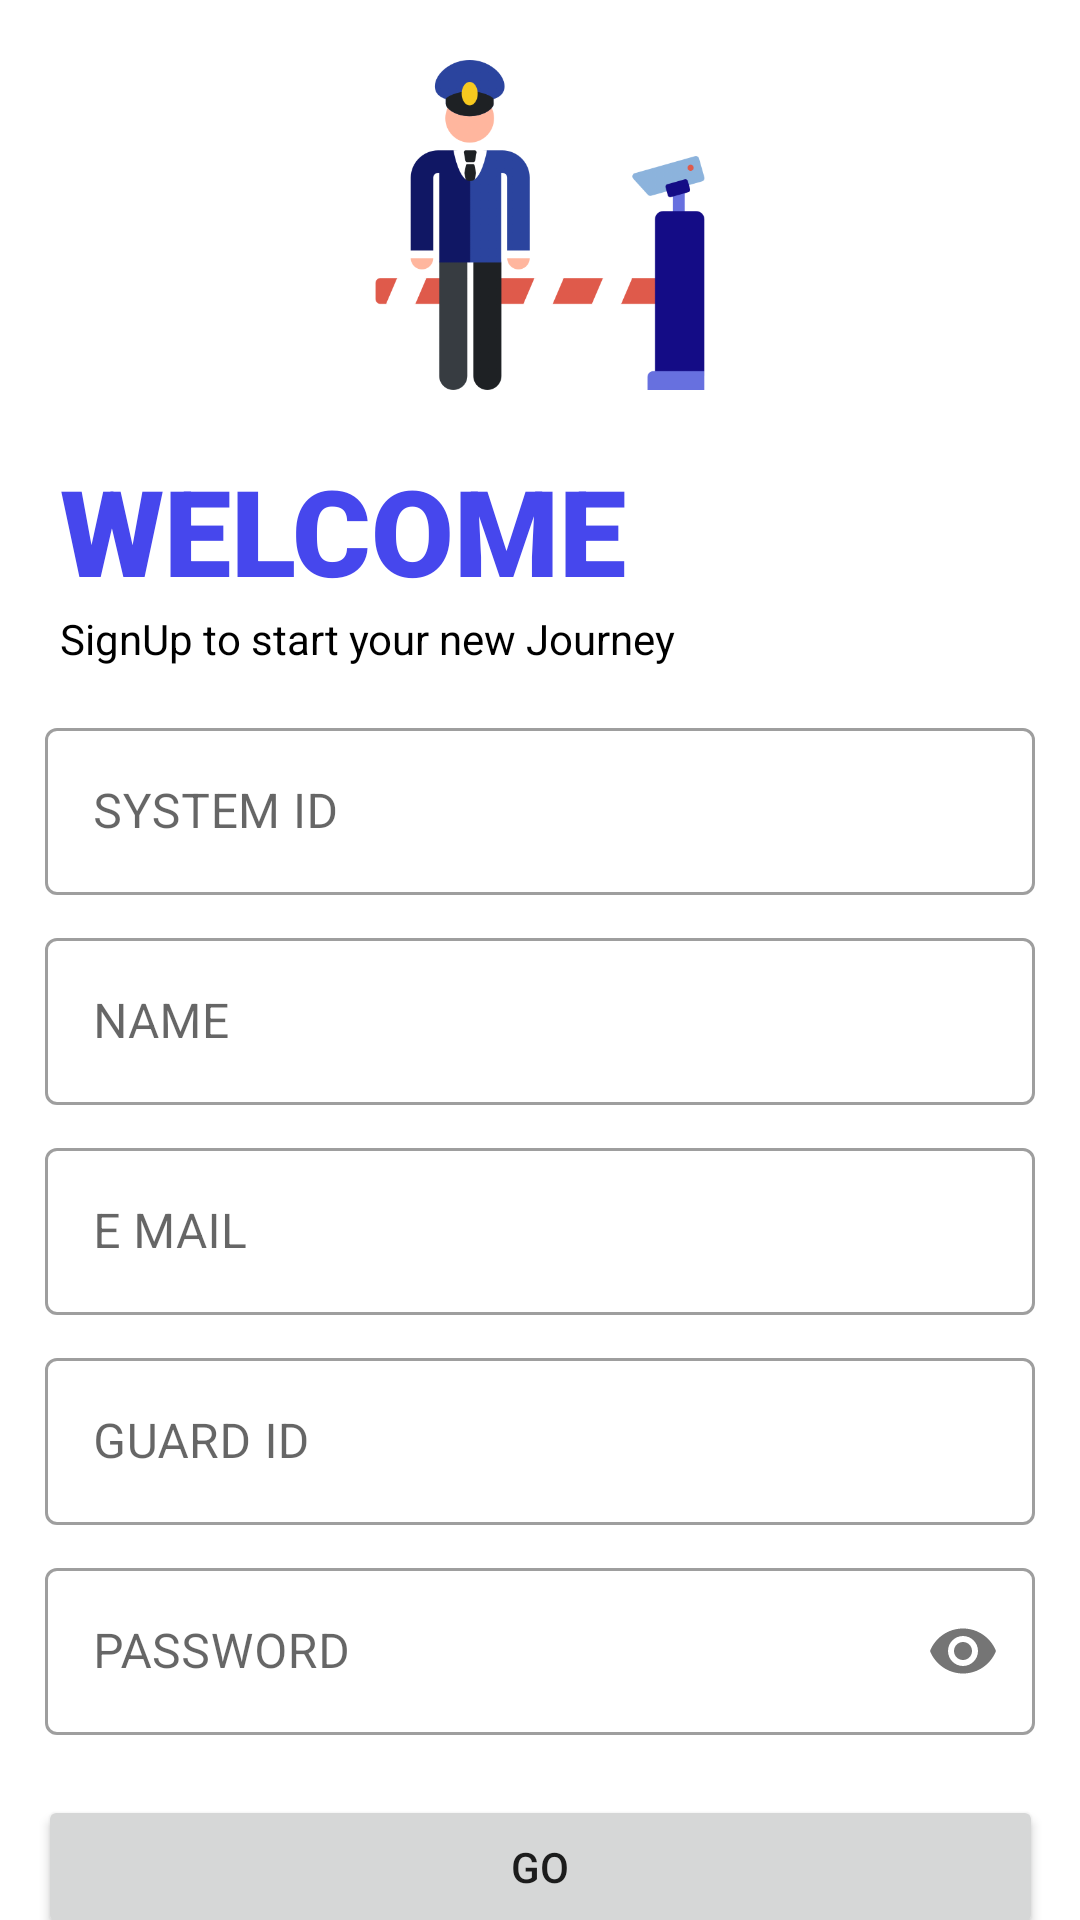

Screen size 1080w x 1920h. Icon name, then its box in pixels as (x1, y1, x2, y2):
guard: (375, 60, 705, 390)
